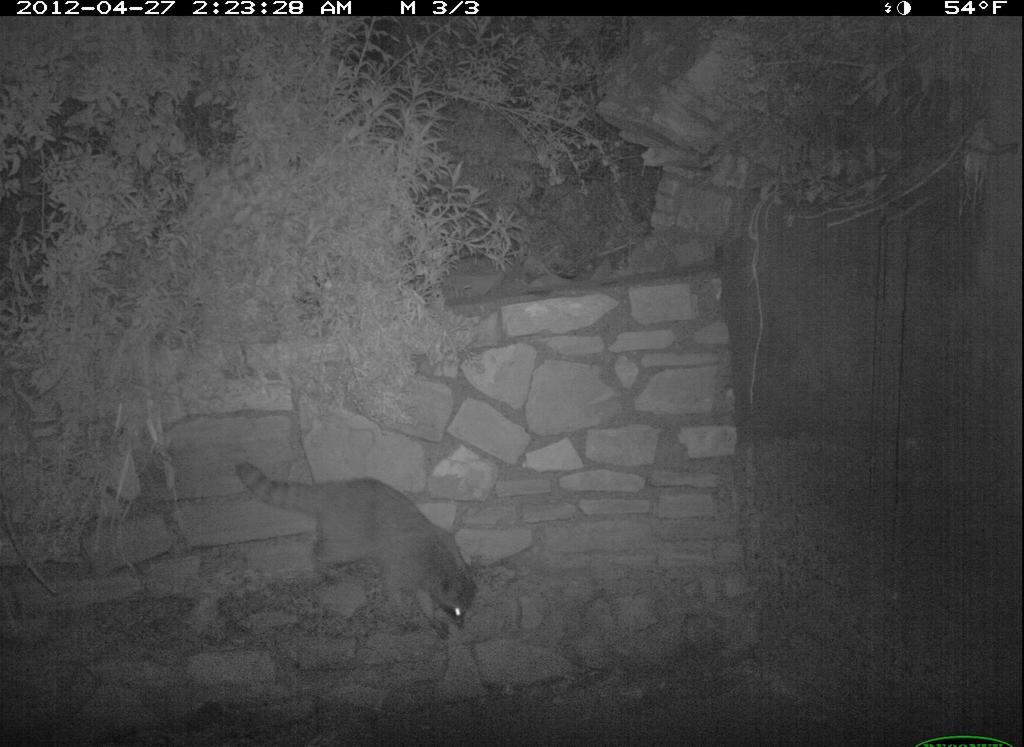raccoon: (228, 459, 487, 644)
